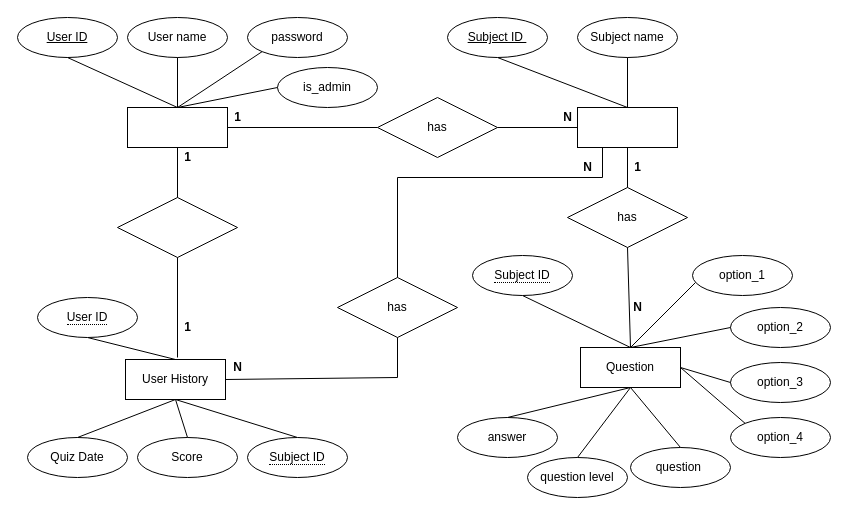
This 848x515 diagram has some shape labels left out. The centre of each missing label's shape, as x and y in pixels:
"subject" belongs at point 627,127.
"User" belongs at point 177,127.
"View" belongs at point 177,227.
